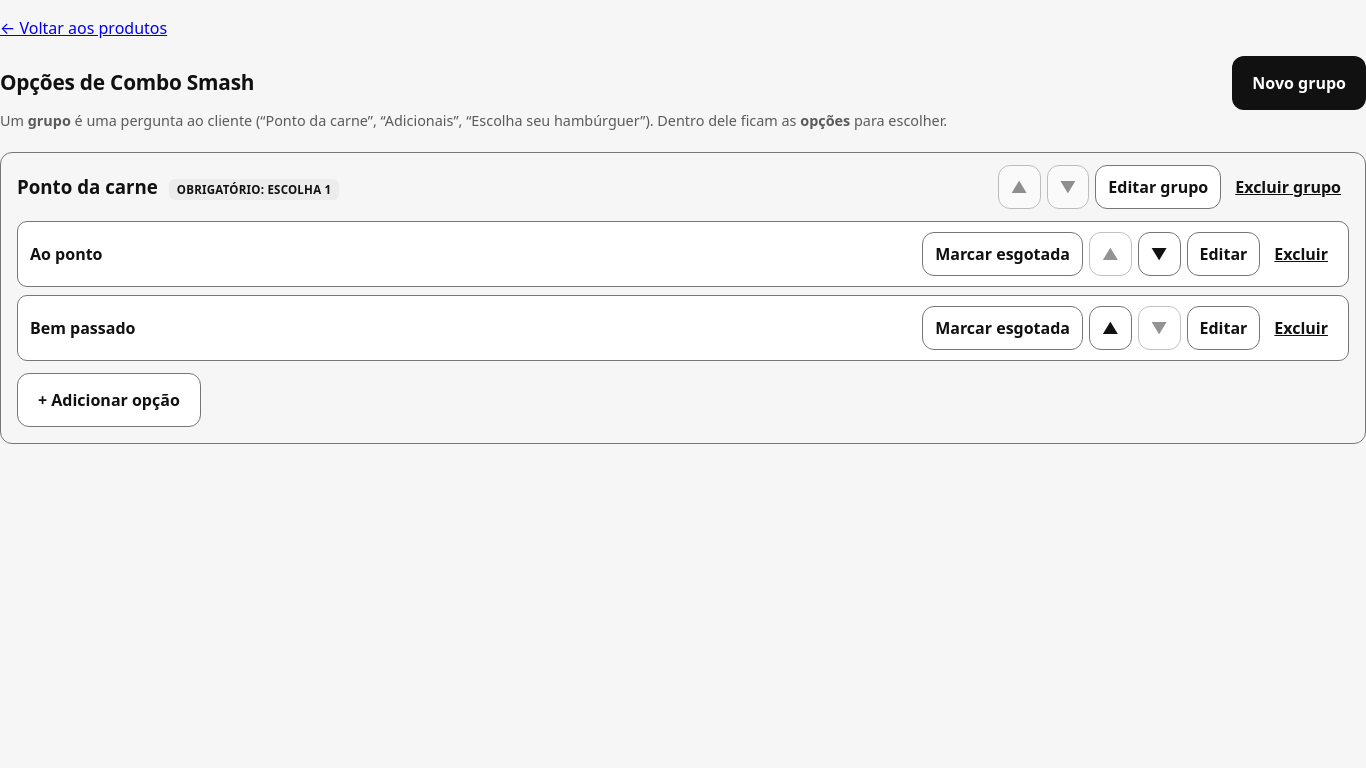
Scenario: Admin: opções do produto › adiciona opção com valor adicional em reais → centavos
Click the button with aria-label "Adicionar opção em Ponto da carne". click: [109, 400]
box: left=17, top=373, right=201, bottom=427
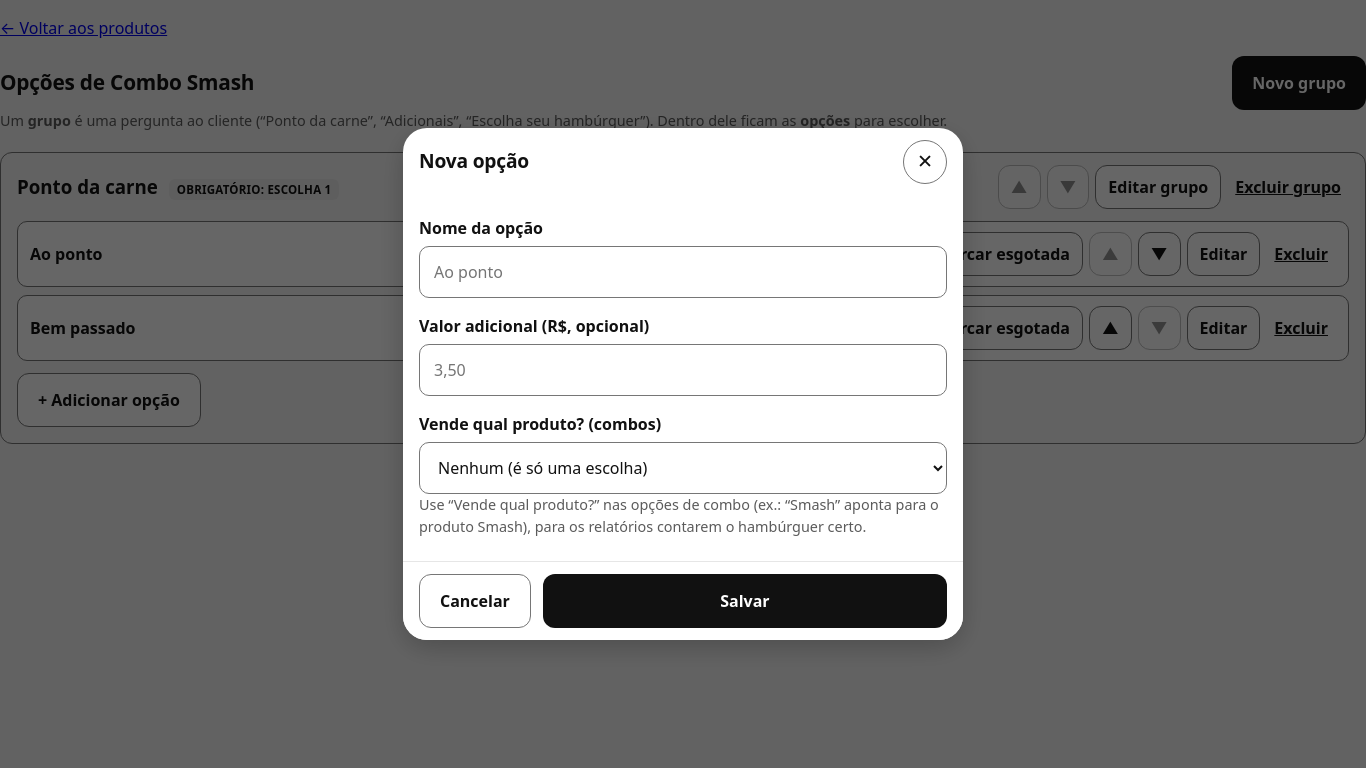
Type "Mal passado" into the field labelled "Nome da opção". click: [683, 272]
box: left=419, top=246, right=947, bottom=298
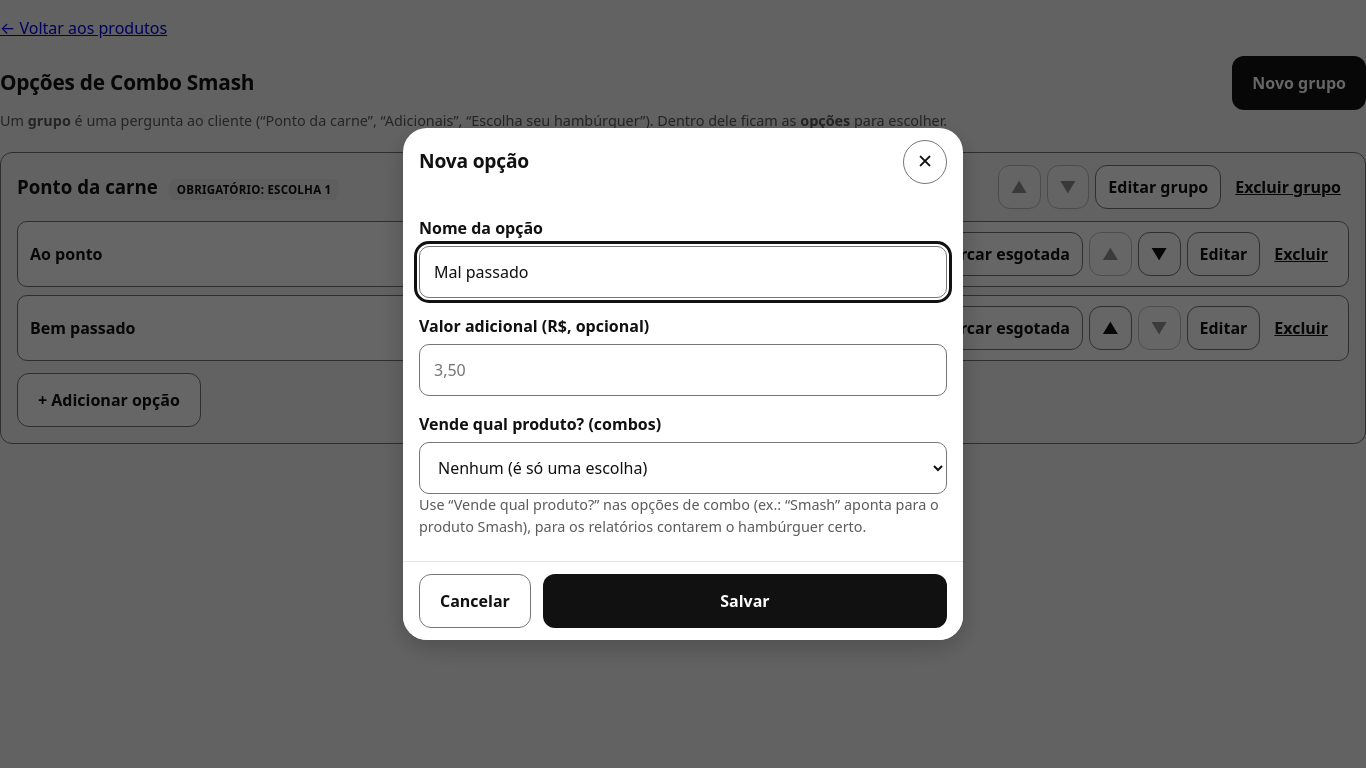
Type "2,5" into the field labelled "Valor adicional (R$, opcional)". click: [683, 370]
box: left=419, top=344, right=947, bottom=396
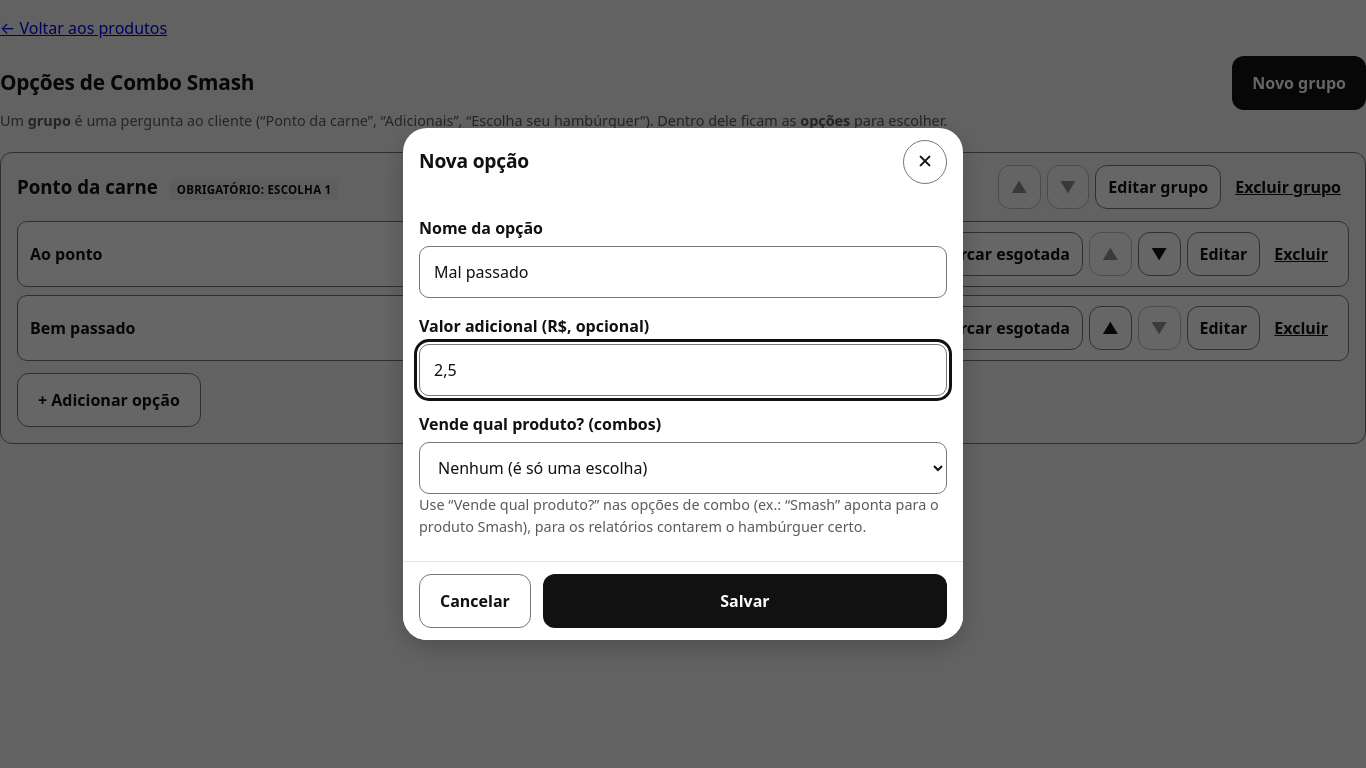
Click the button "Salvar". click: [745, 601]
box: left=543, top=574, right=947, bottom=628
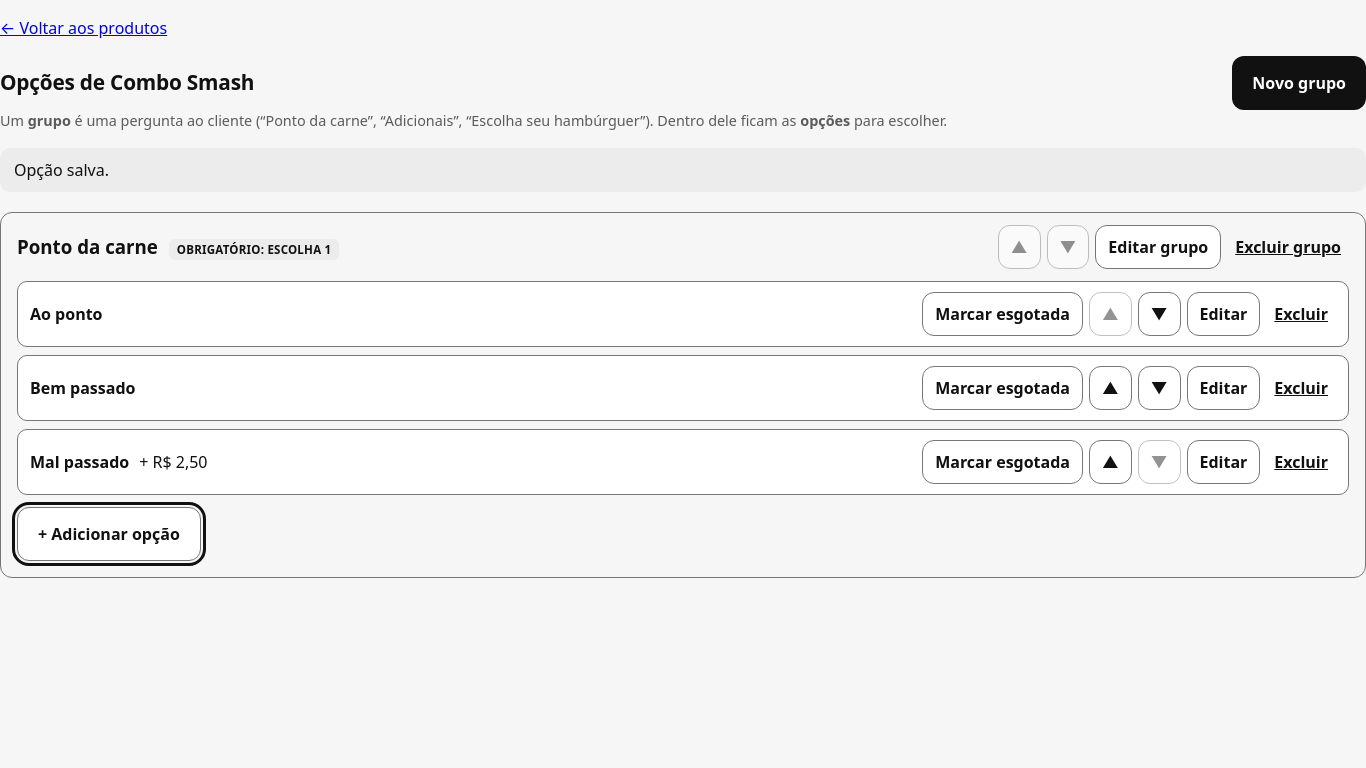
Result: the text "Opção salva." is shown at left=0, top=148, right=1365, bottom=192
Result: the text "Mal passado" is shown at left=30, top=450, right=129, bottom=474
